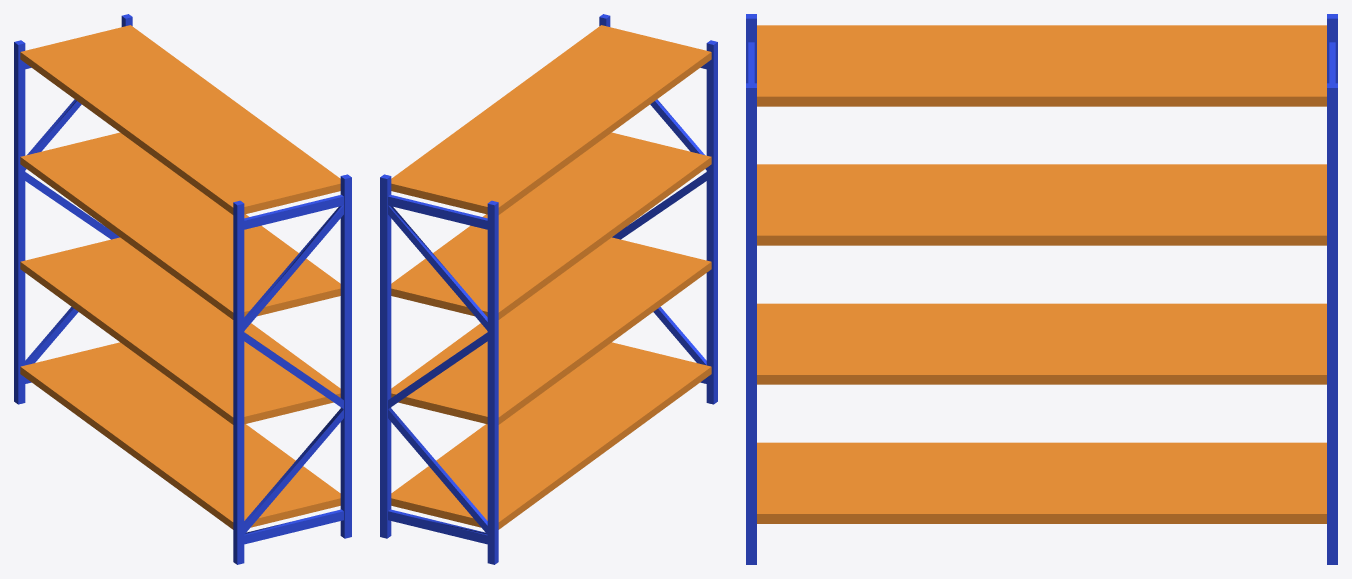
The model's file is shelf_storage.fbx.
The picture shows the model from 3 angles, left to right: view 1: azimuth 30°, elevation 25°; view 2: azimuth 150°, elevation 25°; view 3: azimuth 270°, elevation 25°; orthographic projection. The views are drawn at different scales.
Parts seen in each view (by area): view 1: shelf_storage_planks, shelf_storage_support_01, shelf_storage_support_02; view 2: shelf_storage_planks, shelf_storage_support_02, shelf_storage_support_01; view 3: shelf_storage_planks, shelf_storage_support_01, shelf_storage_support_02.
Part boxes in pixels (<box>): shelf_storage_planks: <box>20,25,340,529</box>; shelf_storage_support_01: <box>233,174,351,564</box>; shelf_storage_support_02: <box>14,14,132,404</box>; shelf_storage_planks: <box>391,25,711,529</box>; shelf_storage_support_02: <box>380,174,498,564</box>; shelf_storage_support_01: <box>599,14,717,404</box>; shelf_storage_planks: <box>757,25,1326,523</box>; shelf_storage_support_01: <box>746,14,756,564</box>; shelf_storage_support_02: <box>1327,14,1337,564</box>.
Size of the model in its own units: 80 by 240 by 270.
